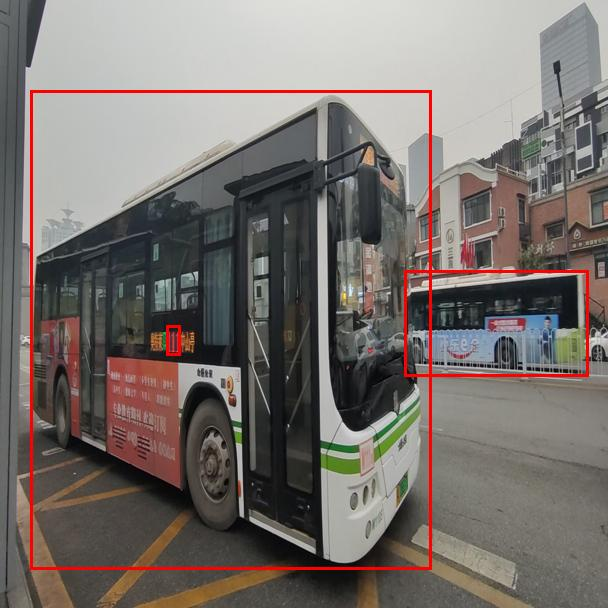bus: (30, 90, 431, 569), (404, 270, 588, 376)
screen: (166, 325, 180, 355)
